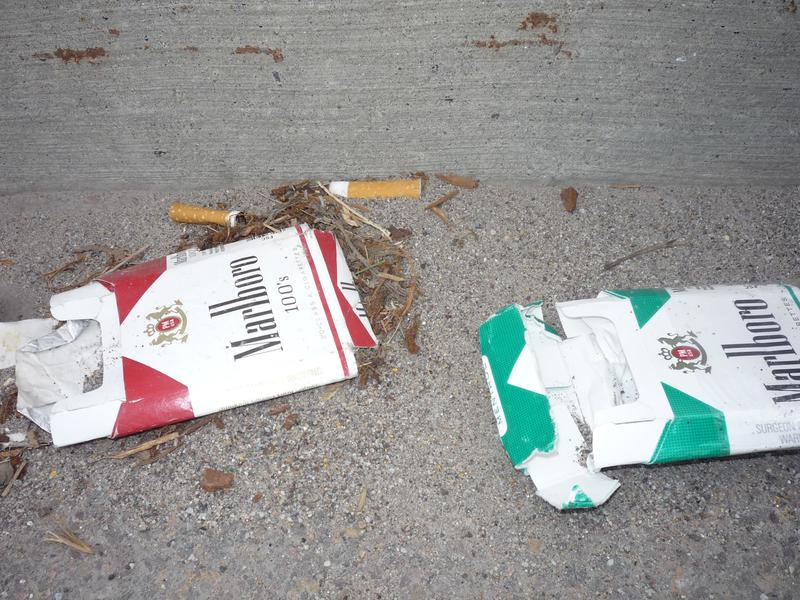burned_cigarette: (317, 170, 429, 204), (163, 200, 250, 230)
cardboard: (18, 221, 386, 458), (458, 266, 800, 516)
